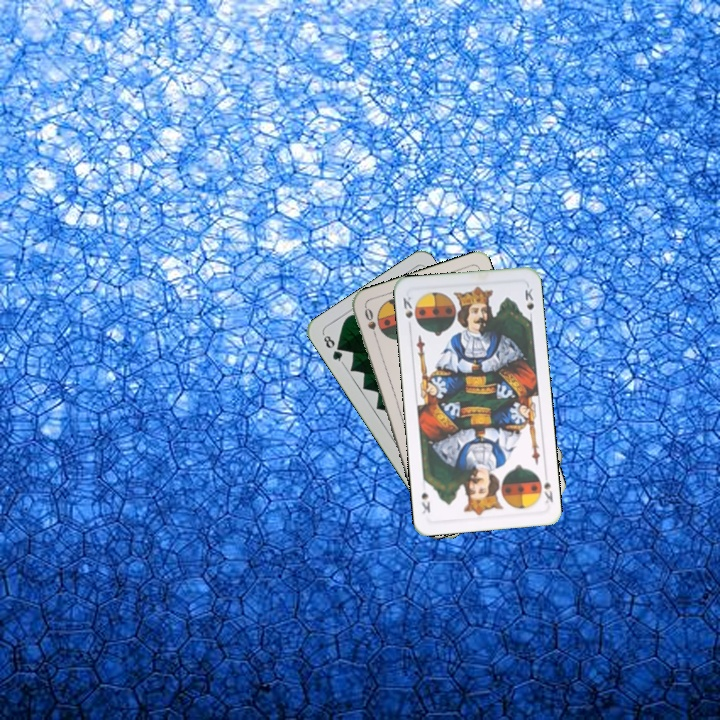G8: (319, 329, 346, 366)
SK: (399, 292, 416, 321), (540, 478, 556, 506)
SO: (360, 304, 381, 343)
